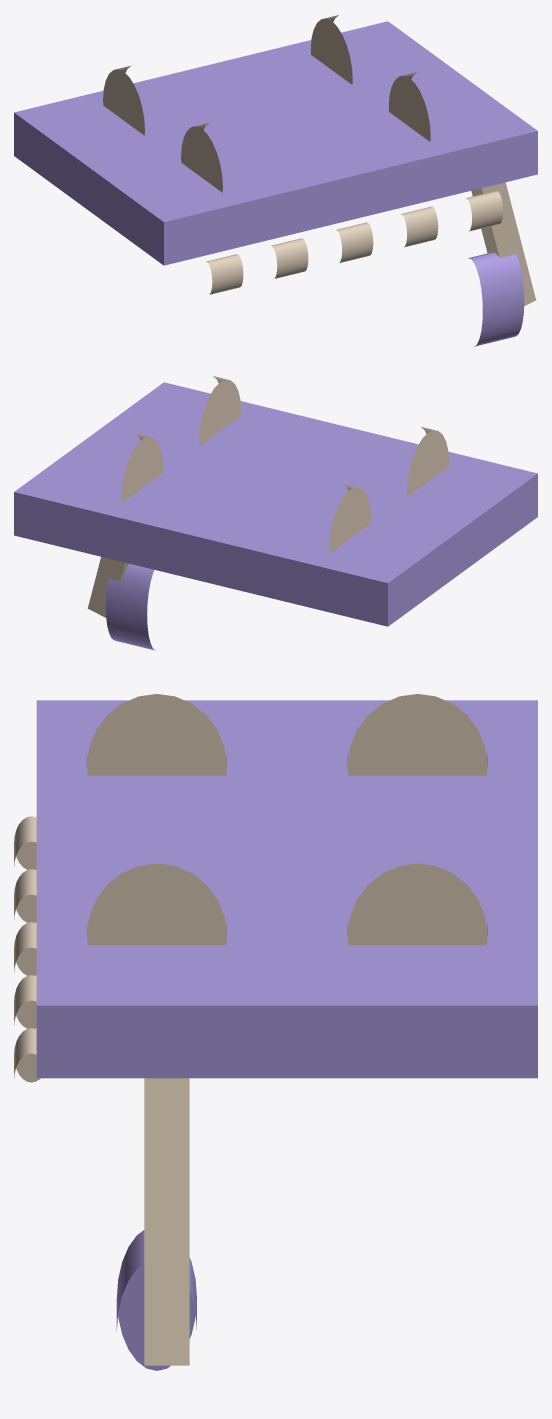
Rendered from stove.gltf.
3 views of the same model, one above another, from view 1: azimuth 30°, elevation 25°; view 2: azimuth 150°, elevation 25°; view 3: azimuth 270°, elevation 25° (orthographic). The views are drawn at different scales.
Visible parts, largest first — view 1: hob, roai_valve, gas_hose, burner_-0.2_0, burner_0.2_0, burner_-0.2_1, burner_0.2_1, knob_2, knob_3, knob_0, knob_1, knob_4; view 2: hob, roai_valve, burner_-0.2_1, burner_-0.2_0, burner_0.2_1, burner_0.2_0, gas_hose; view 3: hob, gas_hose, burner_0.2_0, burner_0.2_1, burner_-0.2_0, burner_-0.2_1, roai_valve, knob_4, knob_0, knob_1, knob_2, knob_3.
Part boxes in pixels (x1,y1,x2,y2): hob: [14, 21, 537, 265]; roai_valve: [468, 252, 524, 346]; gas_hose: [471, 182, 535, 305]; burner_-0.2_0: [103, 65, 144, 135]; burner_0.2_0: [311, 15, 352, 84]; burner_-0.2_1: [181, 123, 222, 192]; burner_0.2_1: [388, 72, 430, 141]; knob_2: [336, 222, 373, 263]; knob_3: [400, 206, 438, 247]; knob_0: [206, 254, 243, 294]; knob_1: [271, 238, 308, 278]; knob_4: [466, 190, 503, 231]; hob: [14, 382, 537, 626]; roai_valve: [105, 563, 155, 650]; burner_-0.2_1: [407, 427, 448, 496]; burner_-0.2_0: [329, 484, 370, 553]; burner_0.2_1: [199, 376, 240, 445]; burner_0.2_0: [121, 433, 163, 502]; gas_hose: [87, 557, 128, 617]; hob: [36, 700, 537, 1078]; gas_hose: [144, 1078, 189, 1365]; burner_0.2_0: [347, 863, 487, 945]; burner_0.2_1: [86, 863, 226, 945]; burner_-0.2_0: [347, 694, 487, 775]; burner_-0.2_1: [86, 694, 226, 775]; roai_valve: [116, 1230, 196, 1370]; knob_4: [14, 1028, 40, 1082]; knob_0: [14, 816, 36, 869]; knob_1: [14, 869, 36, 922]; knob_2: [14, 922, 36, 975]; knob_3: [14, 975, 36, 1028].
Bounding box in the file's own units: 0.7788 × 0.52 × 0.5225.
